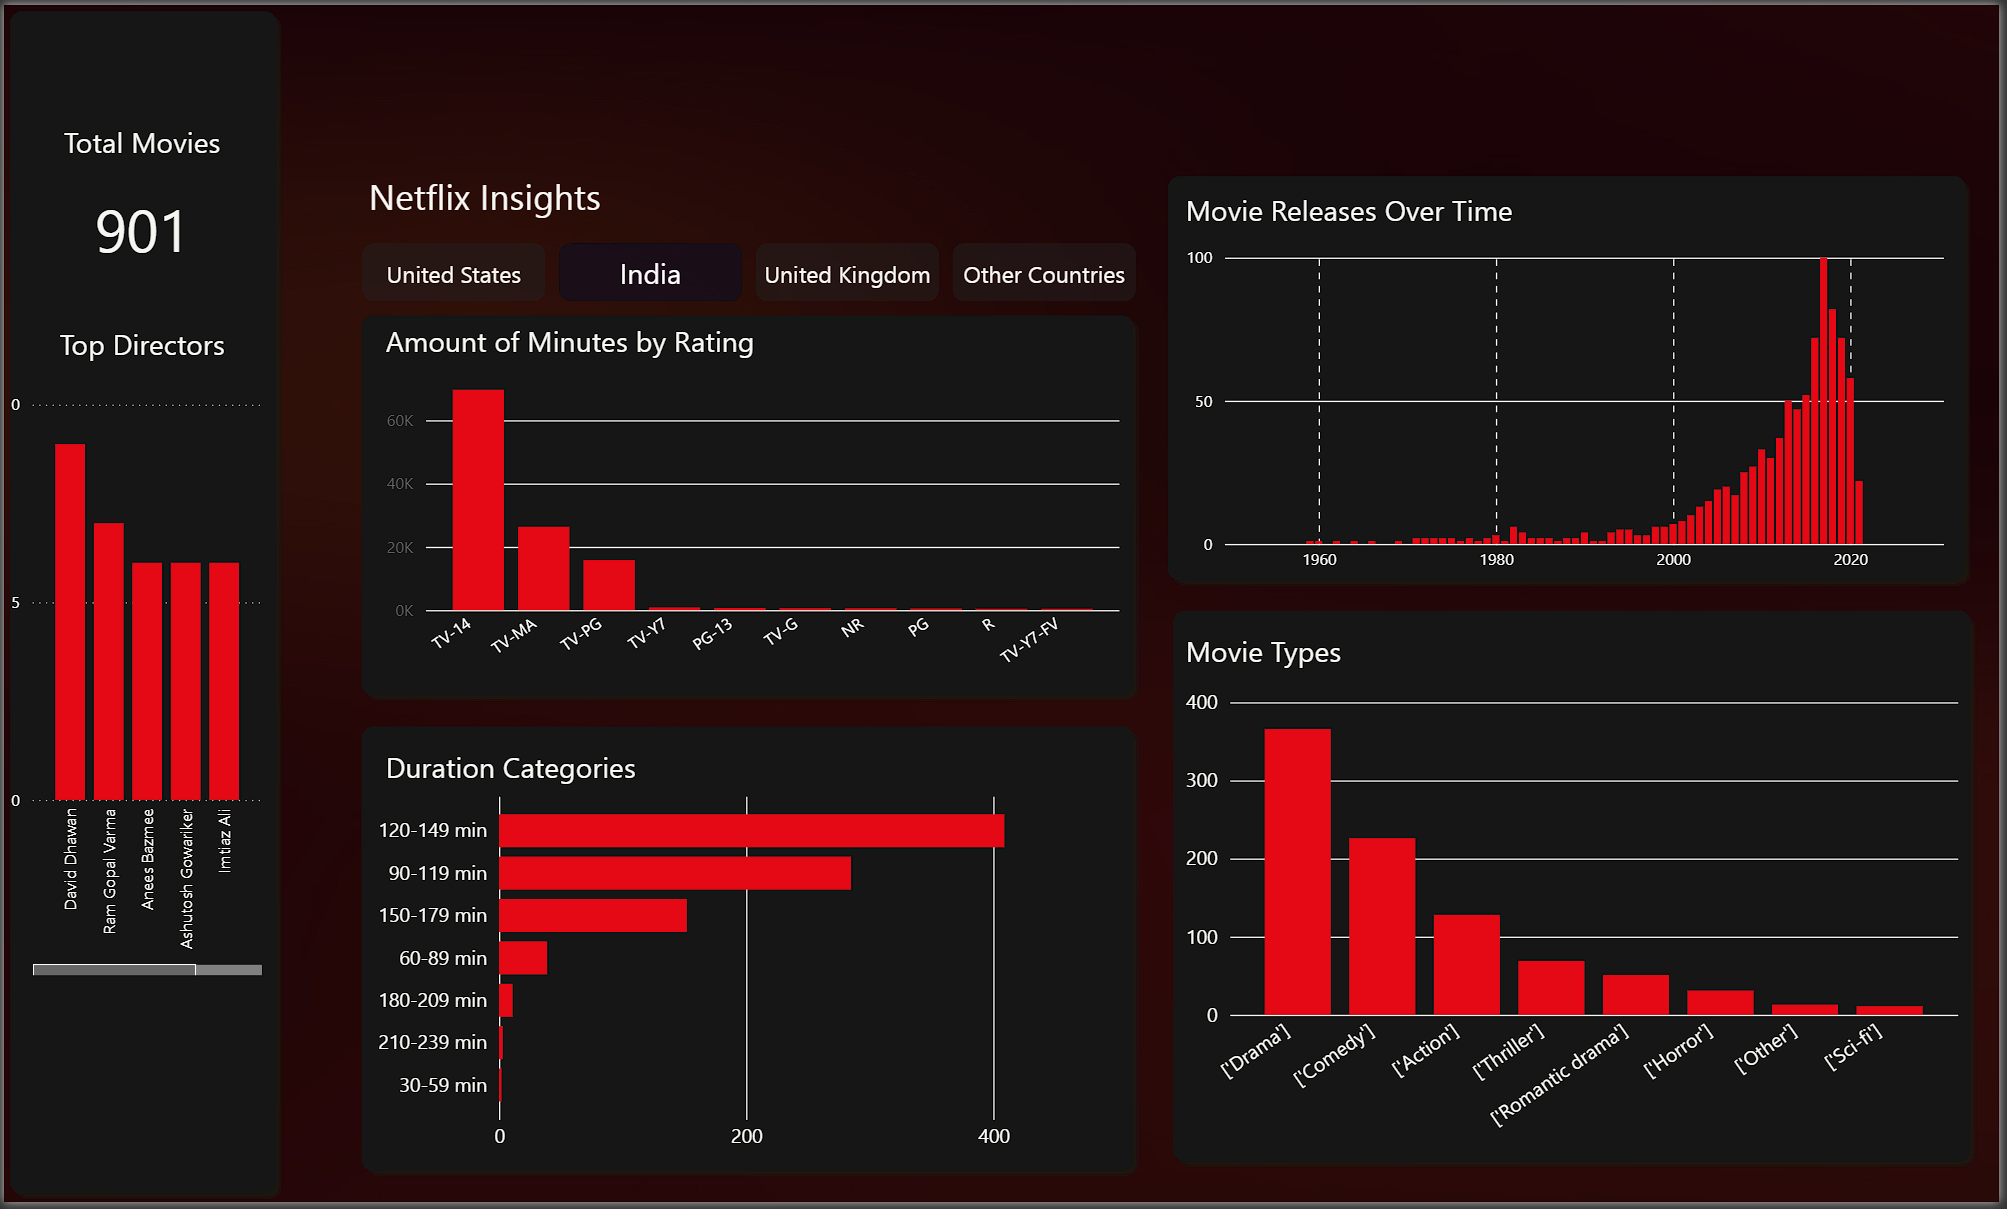

Layout of this report page (visuals, bound fields, positions):
{"tool":"powerbi","page":{"name":"India","canvas":[1500,900],"ordinal":1},"visuals":[{"type":"textbox","box":[282,553.3,218,41],"z":0},{"type":"lineStackedColumnComboChart","fields":{"Y":["netflix_cleaned.count"],"Category":["netflix_cleaned.release_year"]},"box":[883.3,175.9,590.7,259.3],"z":1000},{"type":"textbox","box":[883.3,134.3,390.7,41.7],"z":2000},{"type":"clusteredColumnChart","fields":{"Category":["netflix_cleaned.rating"],"Y":["netflix_cleaned.duration_minutes"]},"box":[282.4,274.1,561.1,243.5],"z":3000},{"type":"textbox","box":[282,232.8,390.2,41],"z":4000},{"type":"pageNavigator","box":[269.4,178.7,584.3,44.4],"z":6000},{"type":"card","fields":{"Values":["netflix_cleaned.count"]},"box":[9.3,134.3,189.8,66.7],"z":7000},{"type":"textbox","box":[883.6,466.4,153.6,41.8],"z":9000},{"type":"textbox","box":[9.3,83.3,189.8,50.9],"z":10000},{"type":"clusteredColumnChart","fields":{"Category":["netflix_cleaned.broad_genres"],"Y":["netflix_cleaned.count"]},"box":[883.3,508.3,590.7,363],"z":11000},{"type":"barChart","fields":{"Category":["netflix_cleaned.duration_bin"],"Y":["netflix_cleaned.count"]},"box":[269.1,582.7,584.5,288.2],"z":12000},{"type":"lineStackedColumnComboChart","fields":{"Category":["netflix_cleaned.director"],"Y":["netflix_cleaned.count"]},"box":[0,286.4,199.1,448.2],"z":12001},{"type":"textbox","box":[9.1,235.5,190,50.9],"z":12002},{"type":"textbox","box":[269.1,120,320,56.4],"z":12003}]}

Visuals, with their boxes in screenshot pixels (x1, y1, x2, y2), scaled from the page's 1500x900 canvas onto the 2007x1209 screenshot:
textbox: bbox=(377, 743, 669, 798)
lineStackedColumnComboChart - netflix_cleaned.count x netflix_cleaned.release_year: bbox=(1182, 236, 1972, 585)
textbox: bbox=(1182, 180, 1705, 236)
clusteredColumnChart - netflix_cleaned.rating x netflix_cleaned.duration_minutes: bbox=(378, 368, 1129, 695)
textbox: bbox=(377, 313, 899, 368)
pageNavigator: bbox=(360, 240, 1142, 300)
card - netflix_cleaned.count: bbox=(12, 180, 266, 270)
textbox: bbox=(1182, 627, 1388, 683)
textbox: bbox=(12, 112, 266, 180)
clusteredColumnChart - netflix_cleaned.broad_genres x netflix_cleaned.count: bbox=(1182, 683, 1972, 1170)
barChart - netflix_cleaned.duration_bin x netflix_cleaned.count: bbox=(360, 783, 1142, 1170)
lineStackedColumnComboChart - netflix_cleaned.director x netflix_cleaned.count: bbox=(0, 385, 266, 987)
textbox: bbox=(12, 316, 266, 385)
textbox: bbox=(360, 161, 788, 237)
